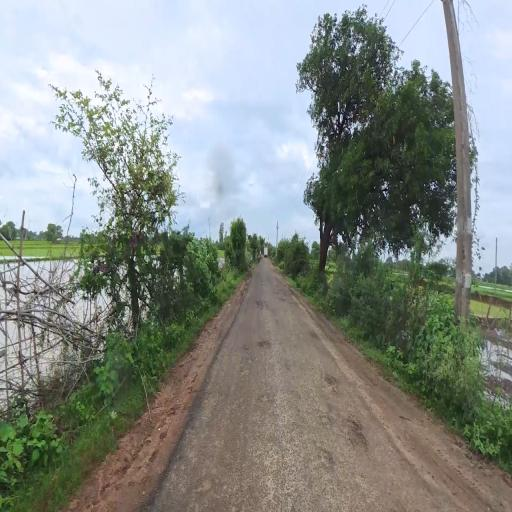ravelling: (235, 308, 372, 502)
